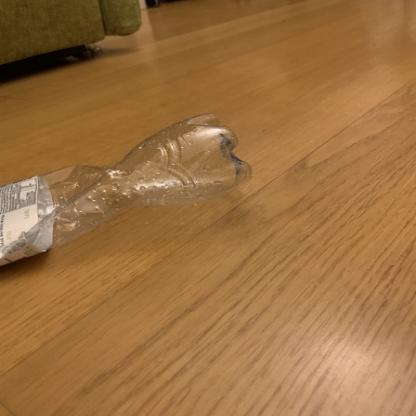trash: (0, 110, 259, 273)
